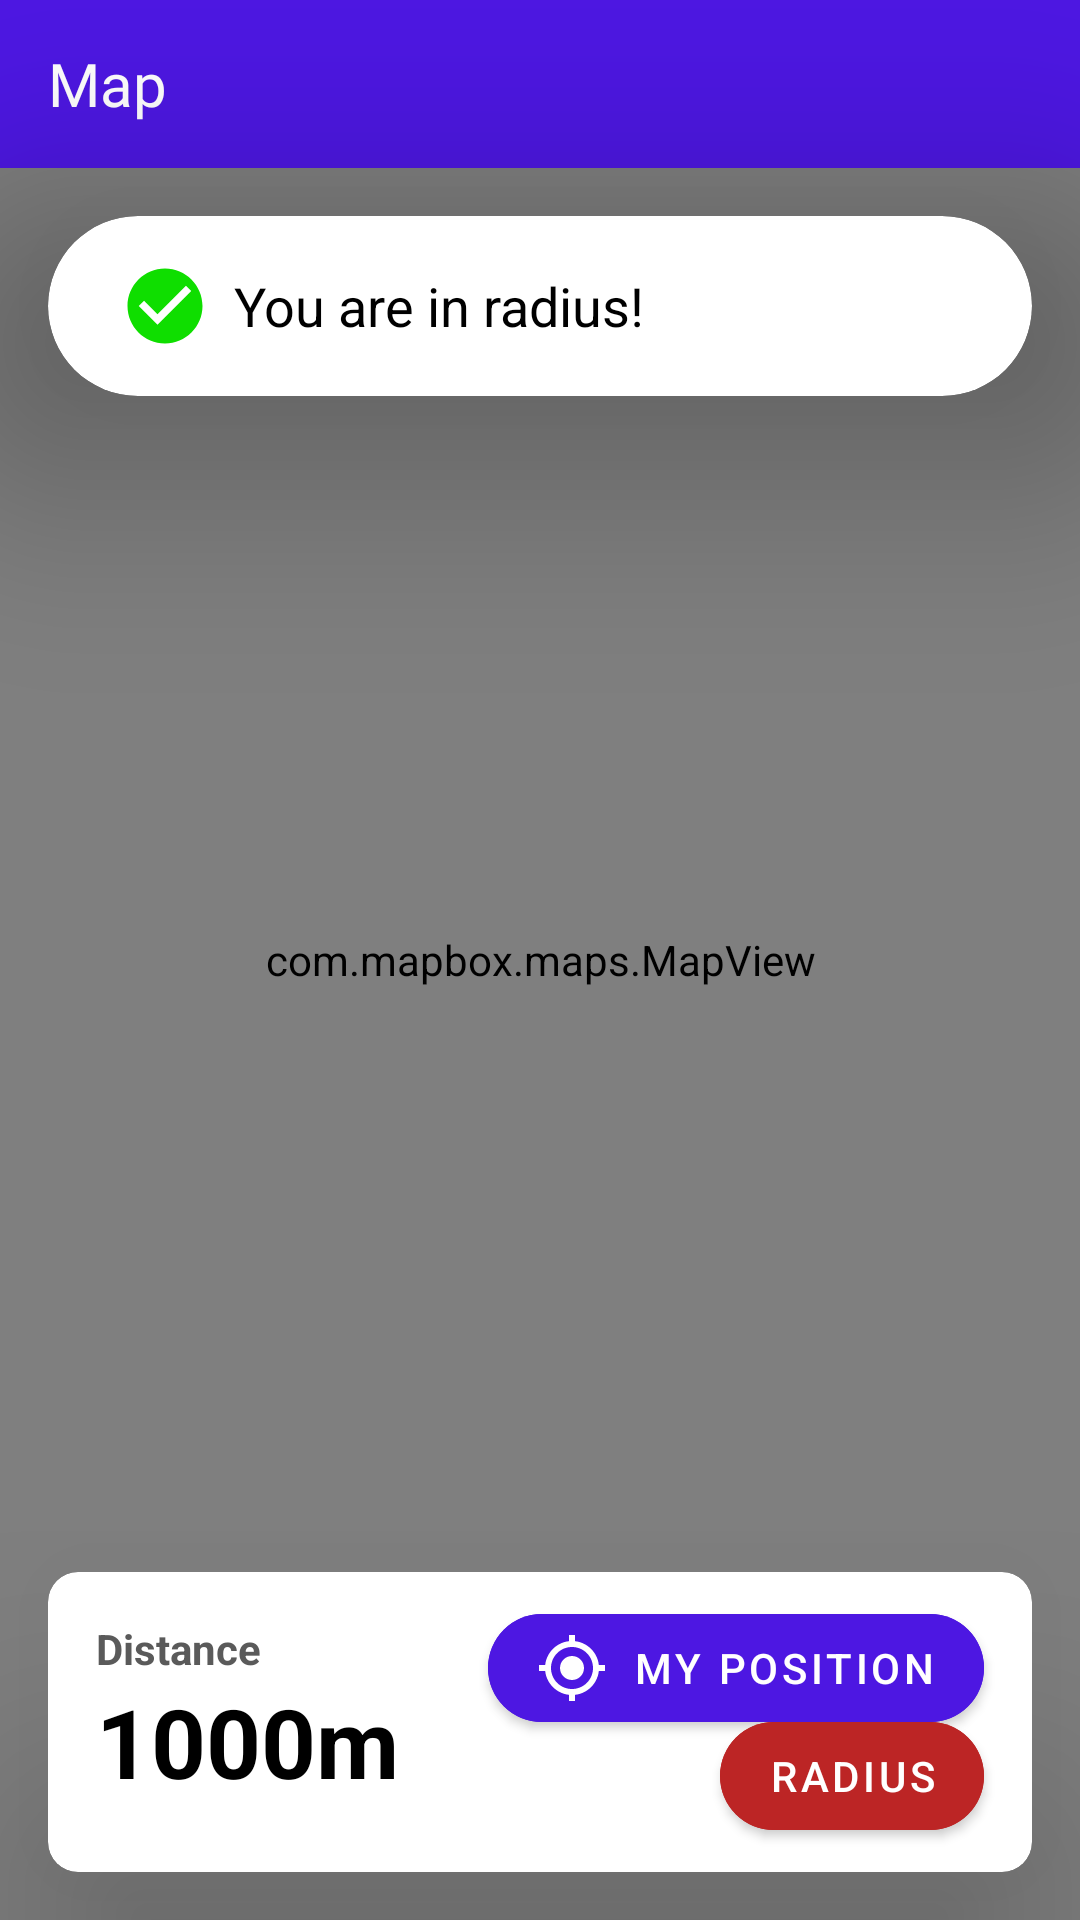

Icon click points for this 1080*1920 phone screenshot, format [x,y]:
check: [165,306]
